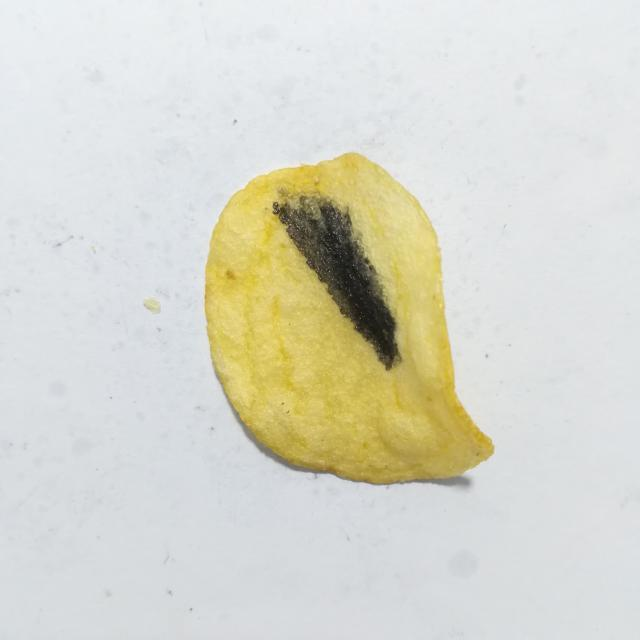chip: (205, 154, 493, 483)
damaged: (273, 194, 399, 370)
